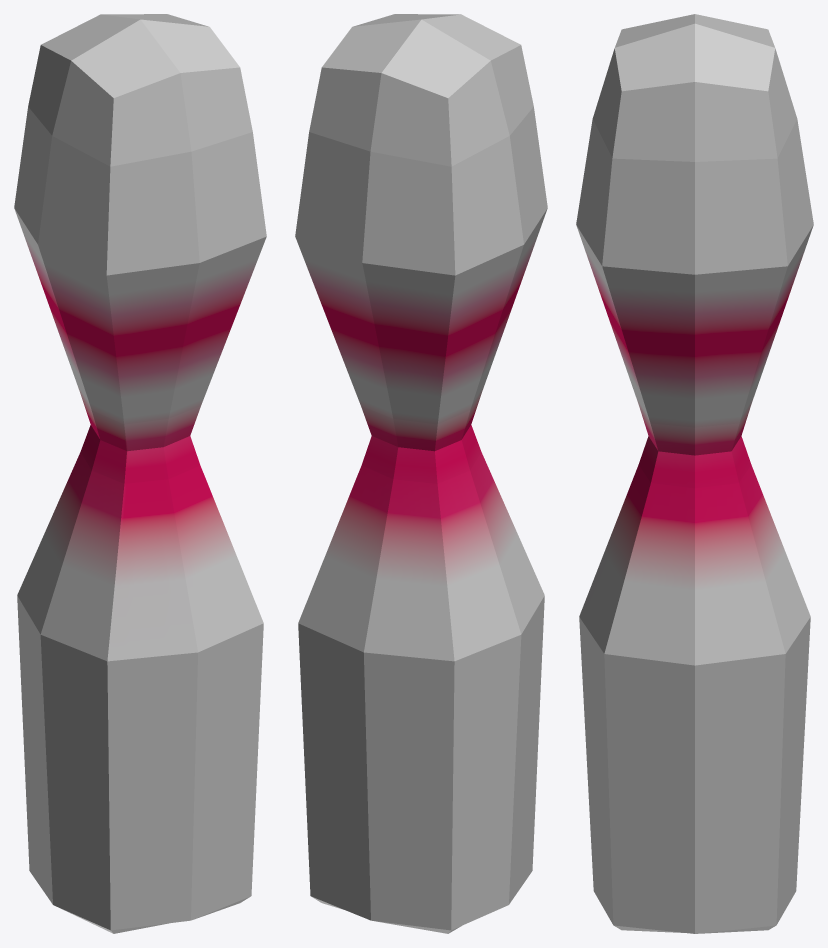
Rendered from demo1_skittle.glb.
The picture shows the model from 3 angles, left to right: view 1: azimuth 30°, elevation 25°; view 2: azimuth 150°, elevation 25°; view 3: azimuth 270°, elevation 25°; orthographic projection.
Parts seen in each view (by area): view 1: Cube; view 2: Cube; view 3: Cube.
Boxes of the visible parts, left/top/right/bottom form: Cube: left=14, top=14, right=266, bottom=933; Cube: left=295, top=14, right=547, bottom=933; Cube: left=576, top=14, right=813, bottom=933.
Size of the model in its own units: 0.0871 by 0.3543 by 0.0871.
1 material, 1 textured.
